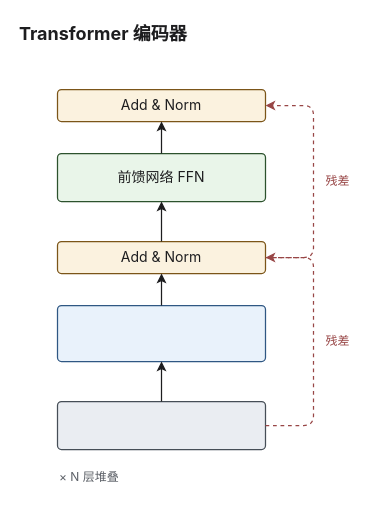
Some shapes in this 366 by 506 pixel diagram are drawn without their labels. Here are the shapes that lost their labels. From the top down, the centre of each, then its label:
the point at 161,333: 多头注意力 Multi-Head Attention
the point at 161,425: 输入嵌入 Embedding
